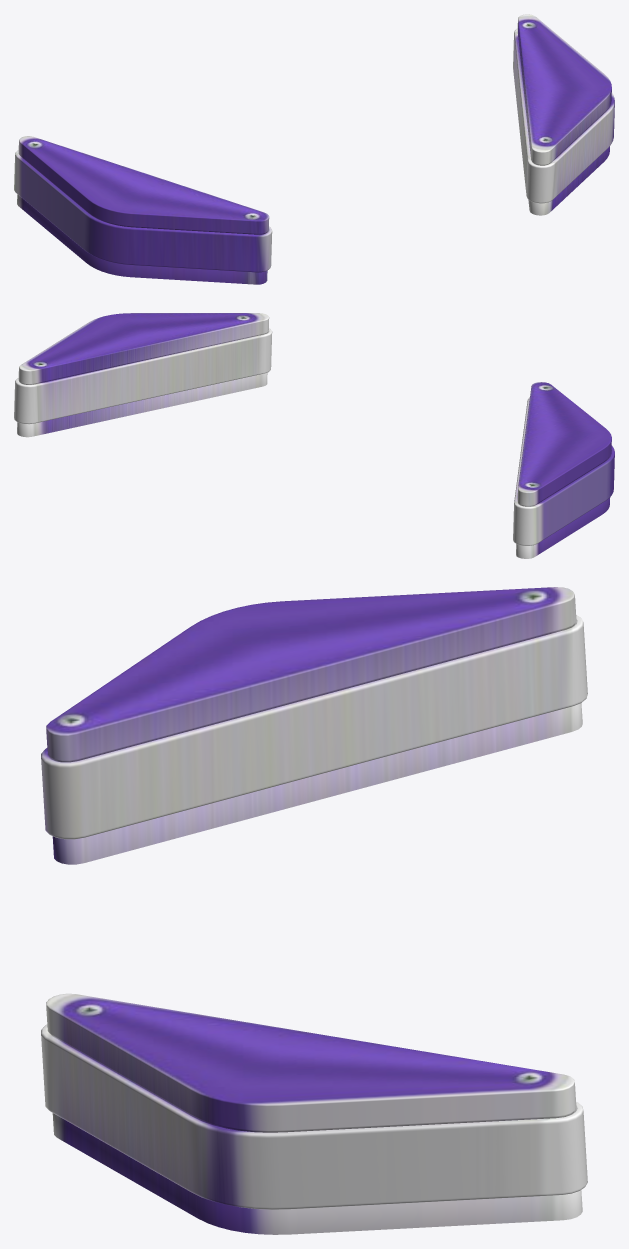
Rendered from tornillos_morados.obj.
The picture shows the model from 3 angles, top to bottom: view 1: azimuth 30°, elevation 25°; view 2: azimuth 150°, elevation 25°; view 3: azimuth 270°, elevation 25°; orthographic projection. The views are drawn at different scales.
Parts seen in each view (by area): view 1: tornillos_morados; view 2: tornillos_morados; view 3: tornillos_morados.
Boxes of the visible parts, x1,y1,x2,y2 form: tornillos_morados: (14, 14, 614, 284); tornillos_morados: (14, 313, 614, 558); tornillos_morados: (41, 587, 587, 1234).
Bounding box in the file's own units: 5.56 × 0.8014 × 2.52.
